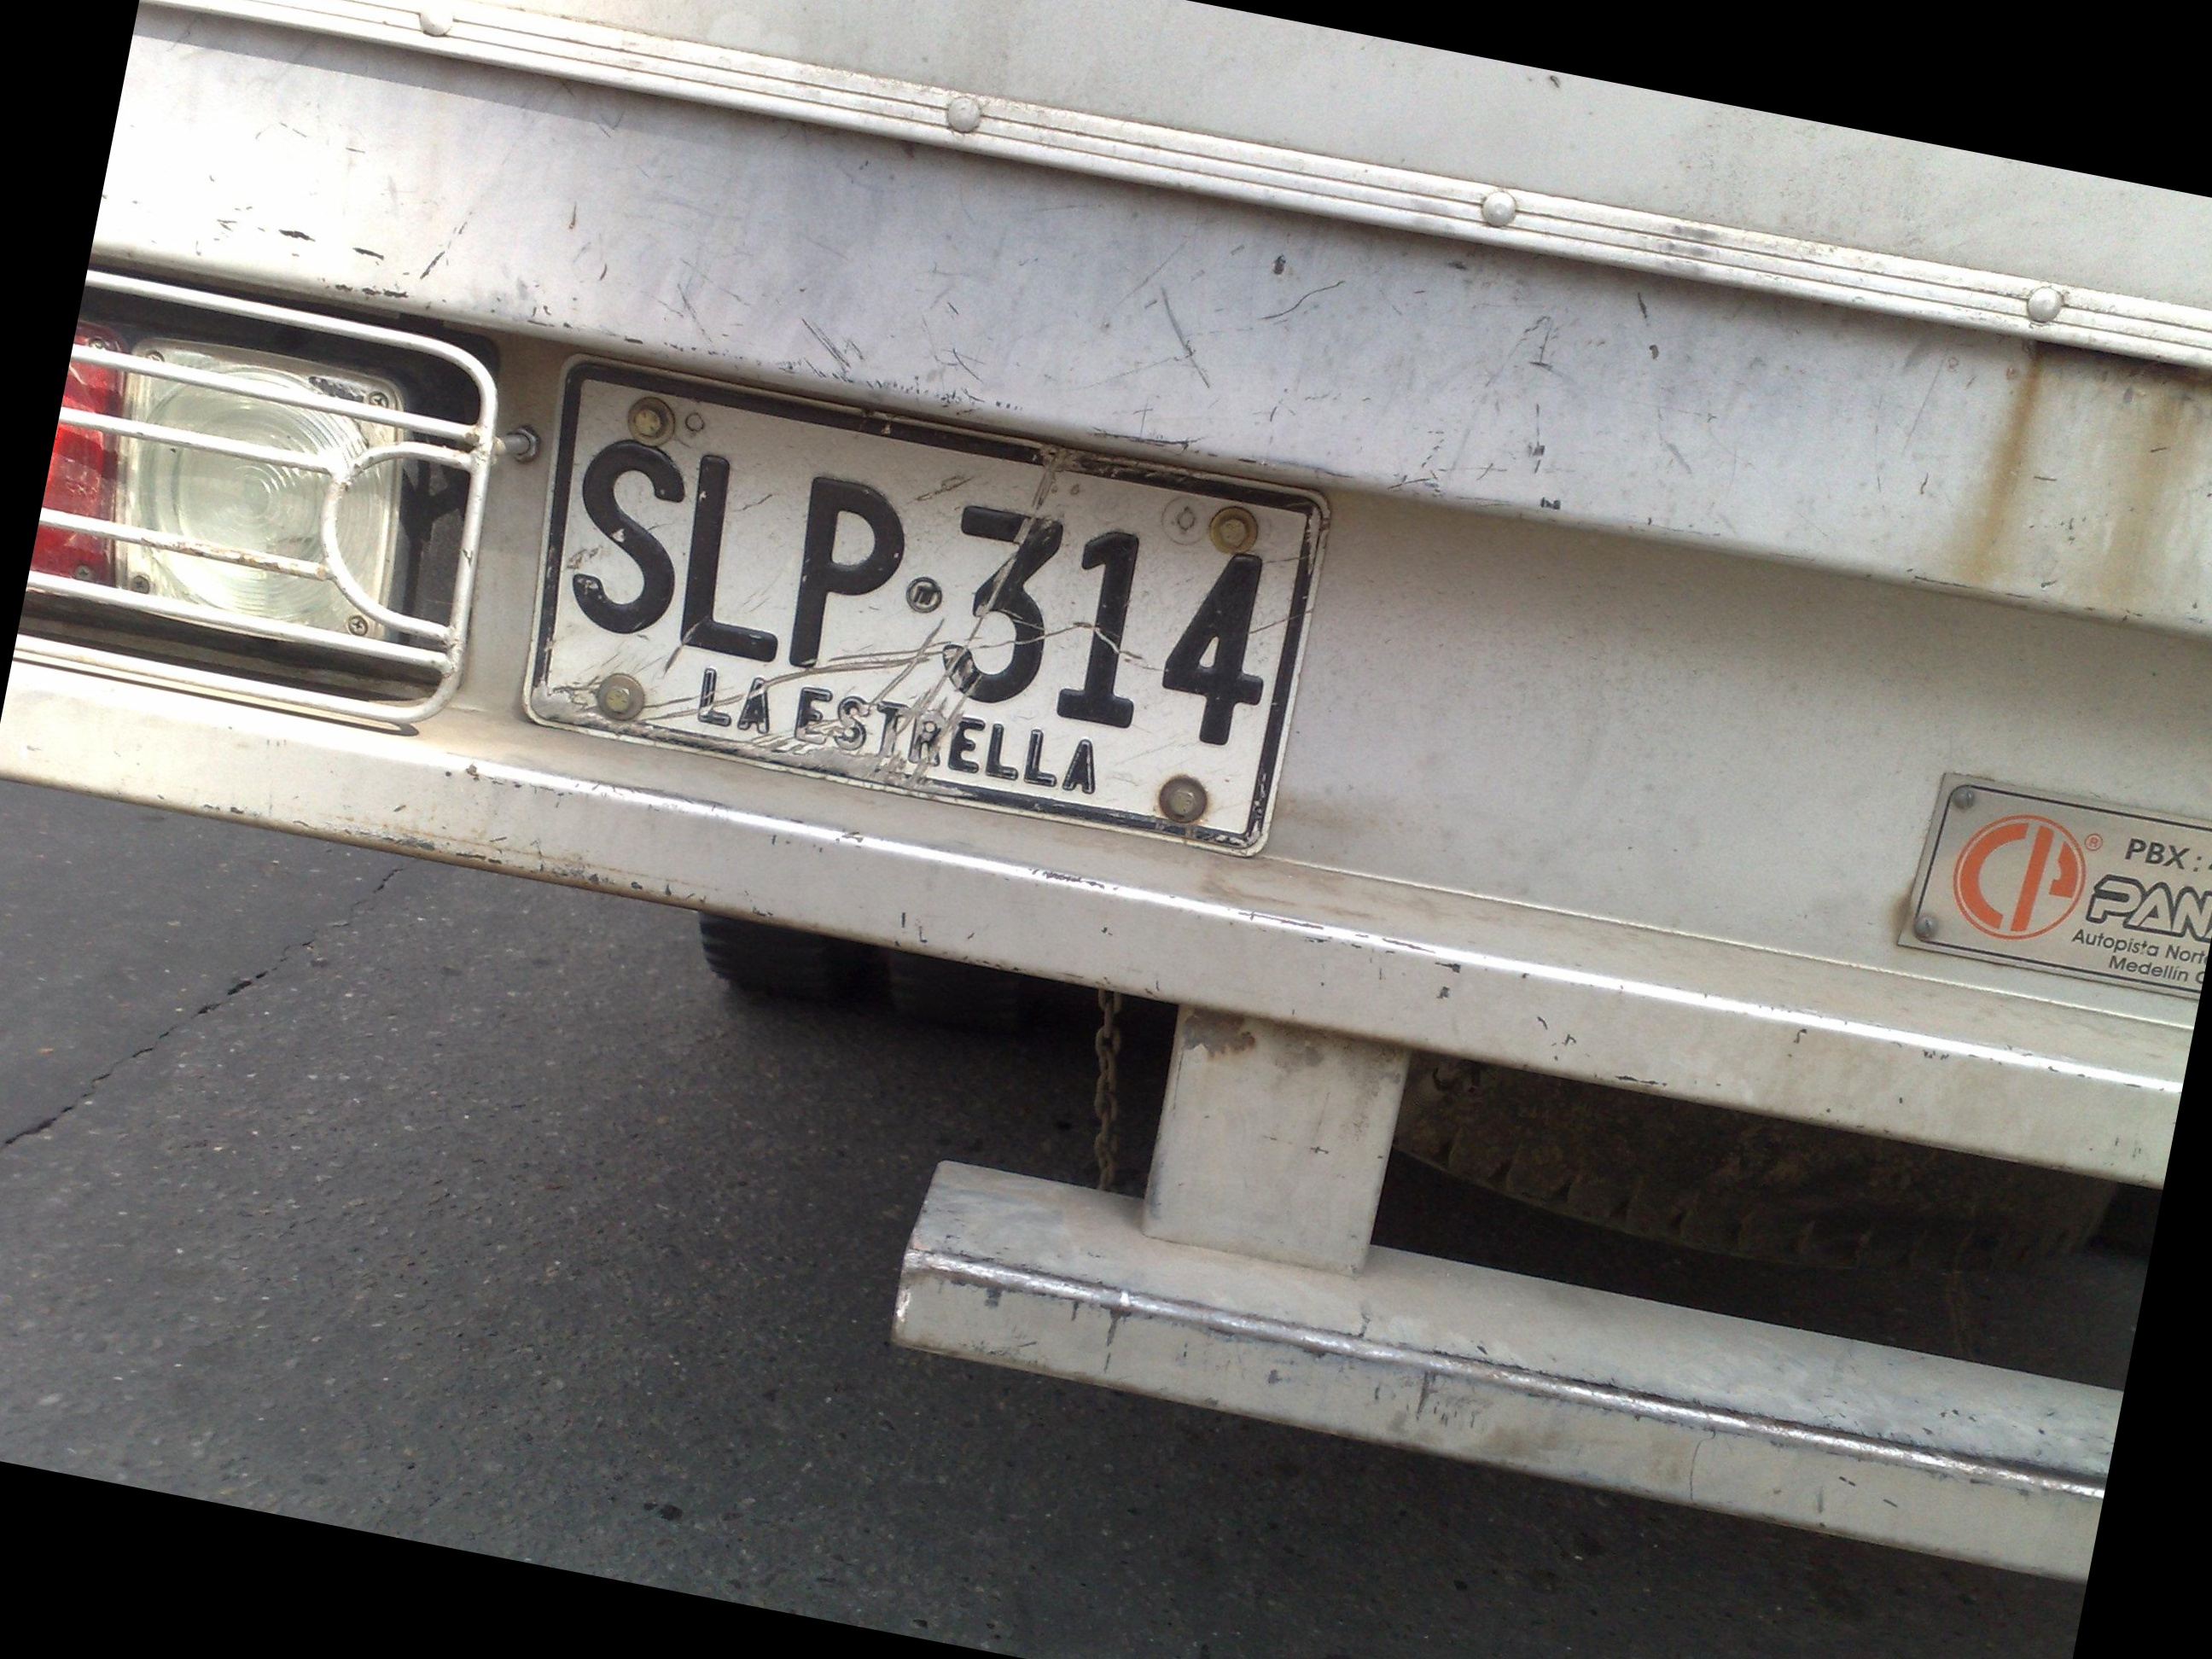placas: (485, 340, 1343, 874)
